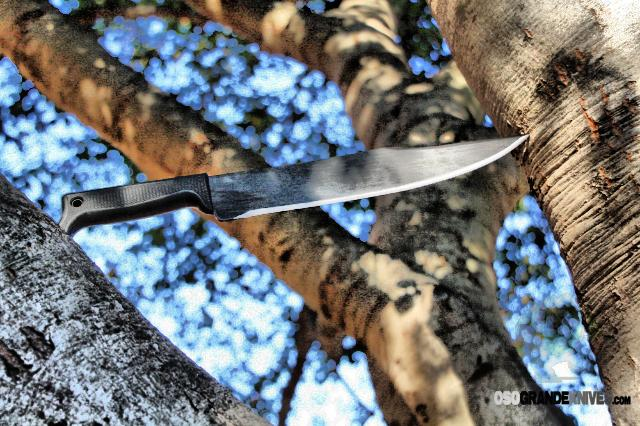knife: (186, 124, 544, 228)
